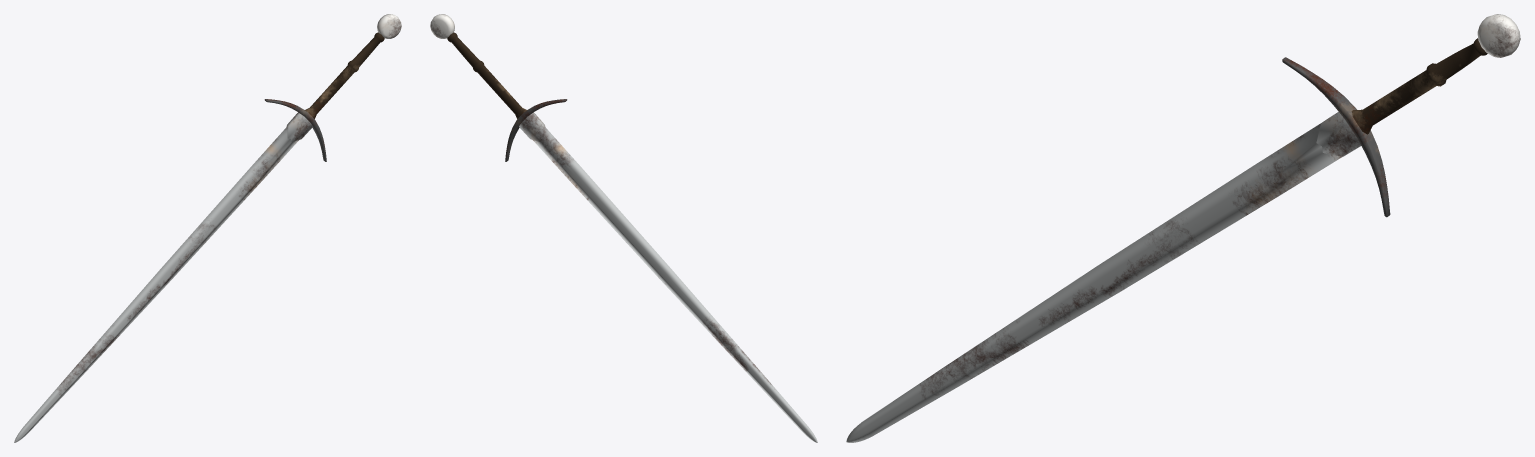
Rendered from sword.glb.
3 views of the same model, side by side, from view 1: azimuth 30°, elevation 25°; view 2: azimuth 150°, elevation 25°; view 3: azimuth 330°, elevation 25° (orthographic). The views are drawn at different scales.
Visible parts, largest first — view 1: Plane003__0; view 2: Plane003__0; view 3: Plane003__0.
Boxes of the visible parts, box(x1,y1,x2,y2) form: Plane003__0: box(14, 14, 401, 442); Plane003__0: box(430, 14, 817, 442); Plane003__0: box(846, 14, 1520, 442).
Size of the model in its own units: 178 by 148 by 4.71.
Materials: 1 (1 with a texture image).
